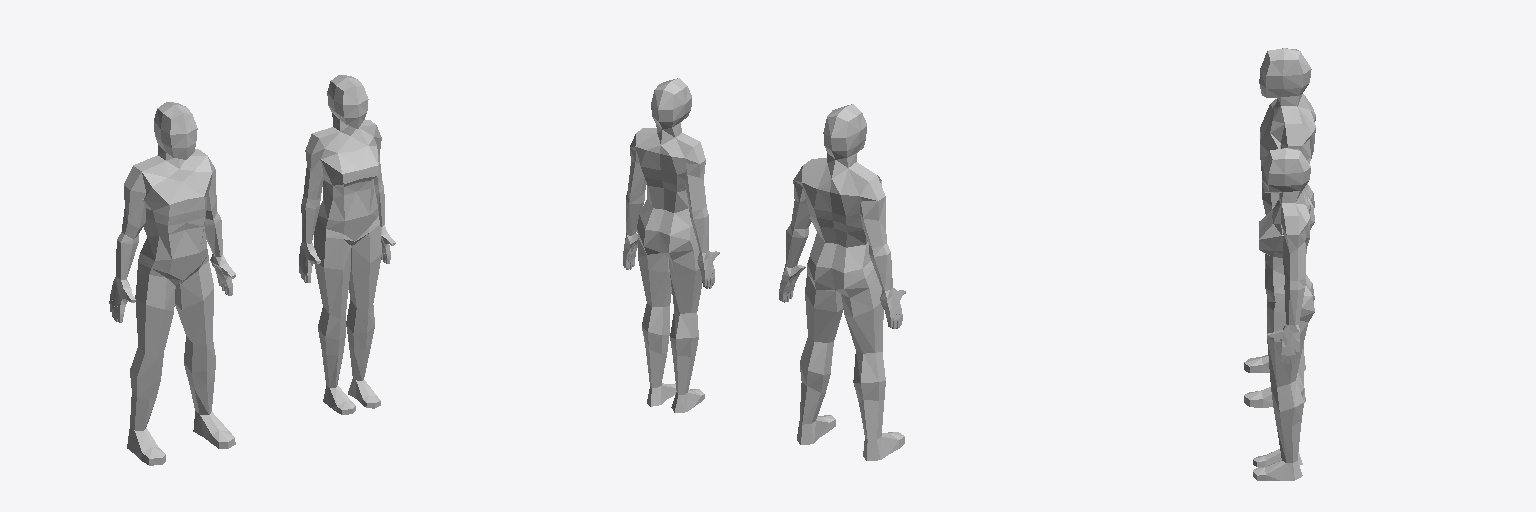
The model's file is human.obj.
3 views of the same model, side by side, from view 1: azimuth 30°, elevation 25°; view 2: azimuth 150°, elevation 25°; view 3: azimuth 270°, elevation 25° (orthographic).
Parts seen in each view (by area): view 1: HumanMale_meHumanMale.001, HumanFemale_meHumanFemale; view 2: HumanMale_meHumanMale.001, HumanFemale_meHumanFemale; view 3: HumanFemale_meHumanFemale, HumanMale_meHumanMale.001.
Part boxes in pixels (bbox=[...]): HumanMale_meHumanMale.001: bbox=[109, 102, 235, 465]; HumanFemale_meHumanFemale: bbox=[299, 75, 395, 414]; HumanMale_meHumanMale.001: bbox=[779, 104, 905, 460]; HumanFemale_meHumanFemale: bbox=[623, 78, 719, 412]; HumanFemale_meHumanFemale: bbox=[1253, 148, 1314, 480]; HumanMale_meHumanMale.001: bbox=[1244, 48, 1315, 407].
Size of the model in its own units: 1.57 by 1.87 by 0.3618.